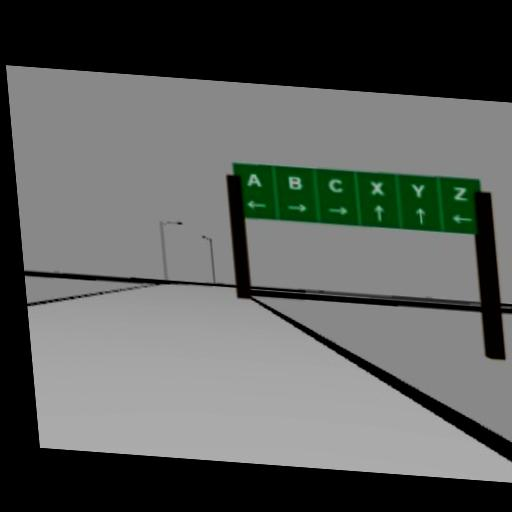A: (244, 171, 262, 186)
B: (287, 174, 303, 189)
C: (327, 176, 343, 192)
Left: (450, 211, 473, 223), (243, 198, 266, 207)
Right: (326, 204, 347, 213), (286, 201, 307, 210)
Straight: (372, 202, 385, 222), (414, 205, 425, 225)
X: (368, 179, 384, 195)
Y: (410, 180, 426, 196)
Z: (451, 184, 467, 200)
